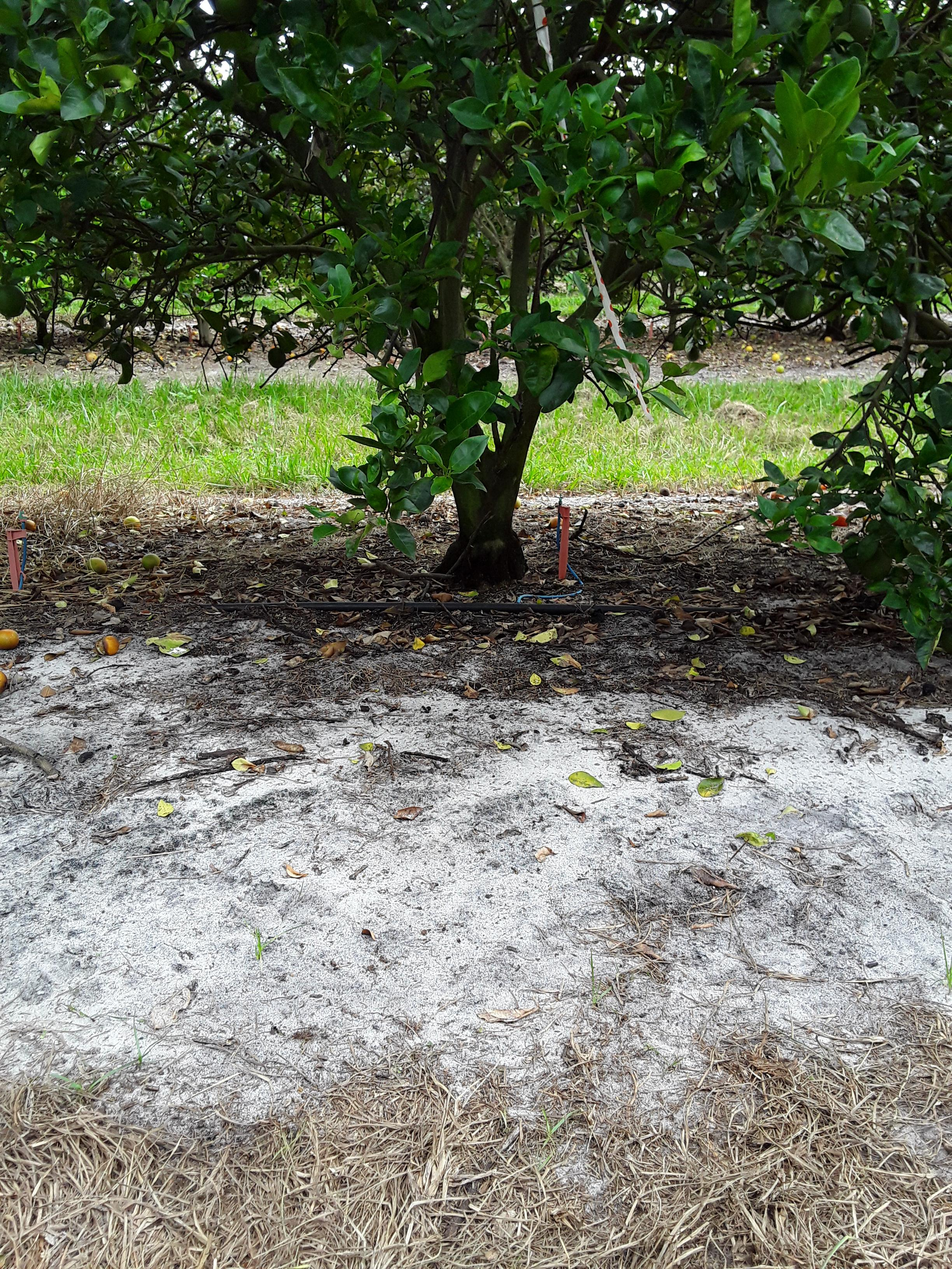fruit_on_ground: (836, 0, 877, 49), (780, 280, 820, 323), (860, 541, 895, 581), (1, 281, 33, 323), (216, 325, 247, 356), (202, 128, 236, 148), (842, 544, 863, 573), (265, 346, 292, 368), (936, 622, 952, 654)
fruit_on_tree: (95, 633, 122, 659), (82, 555, 109, 580), (139, 552, 168, 572), (769, 486, 794, 507), (1, 624, 21, 649), (123, 514, 144, 531), (831, 512, 851, 529), (508, 493, 527, 510), (921, 680, 938, 698), (0, 664, 10, 693), (547, 513, 565, 528), (22, 516, 38, 532), (907, 685, 922, 699), (658, 485, 672, 498), (676, 487, 692, 495)
